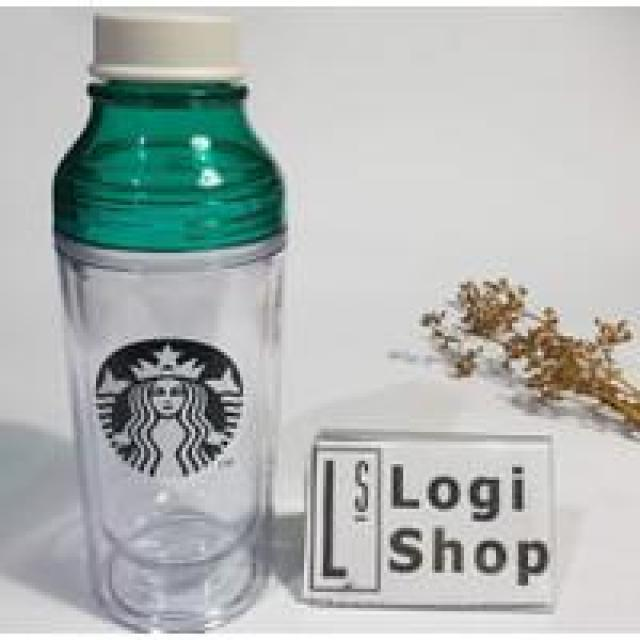bottle: (51, 1, 291, 638)
